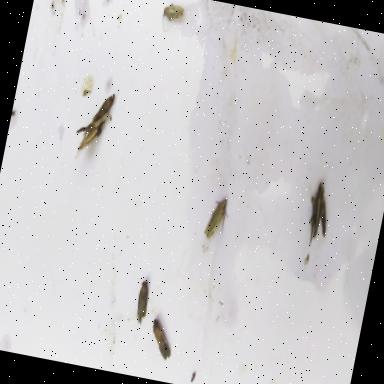pbw: (303, 181, 337, 247), (146, 318, 177, 364), (201, 195, 230, 244), (78, 118, 104, 154), (159, 2, 185, 36), (133, 282, 152, 326)
